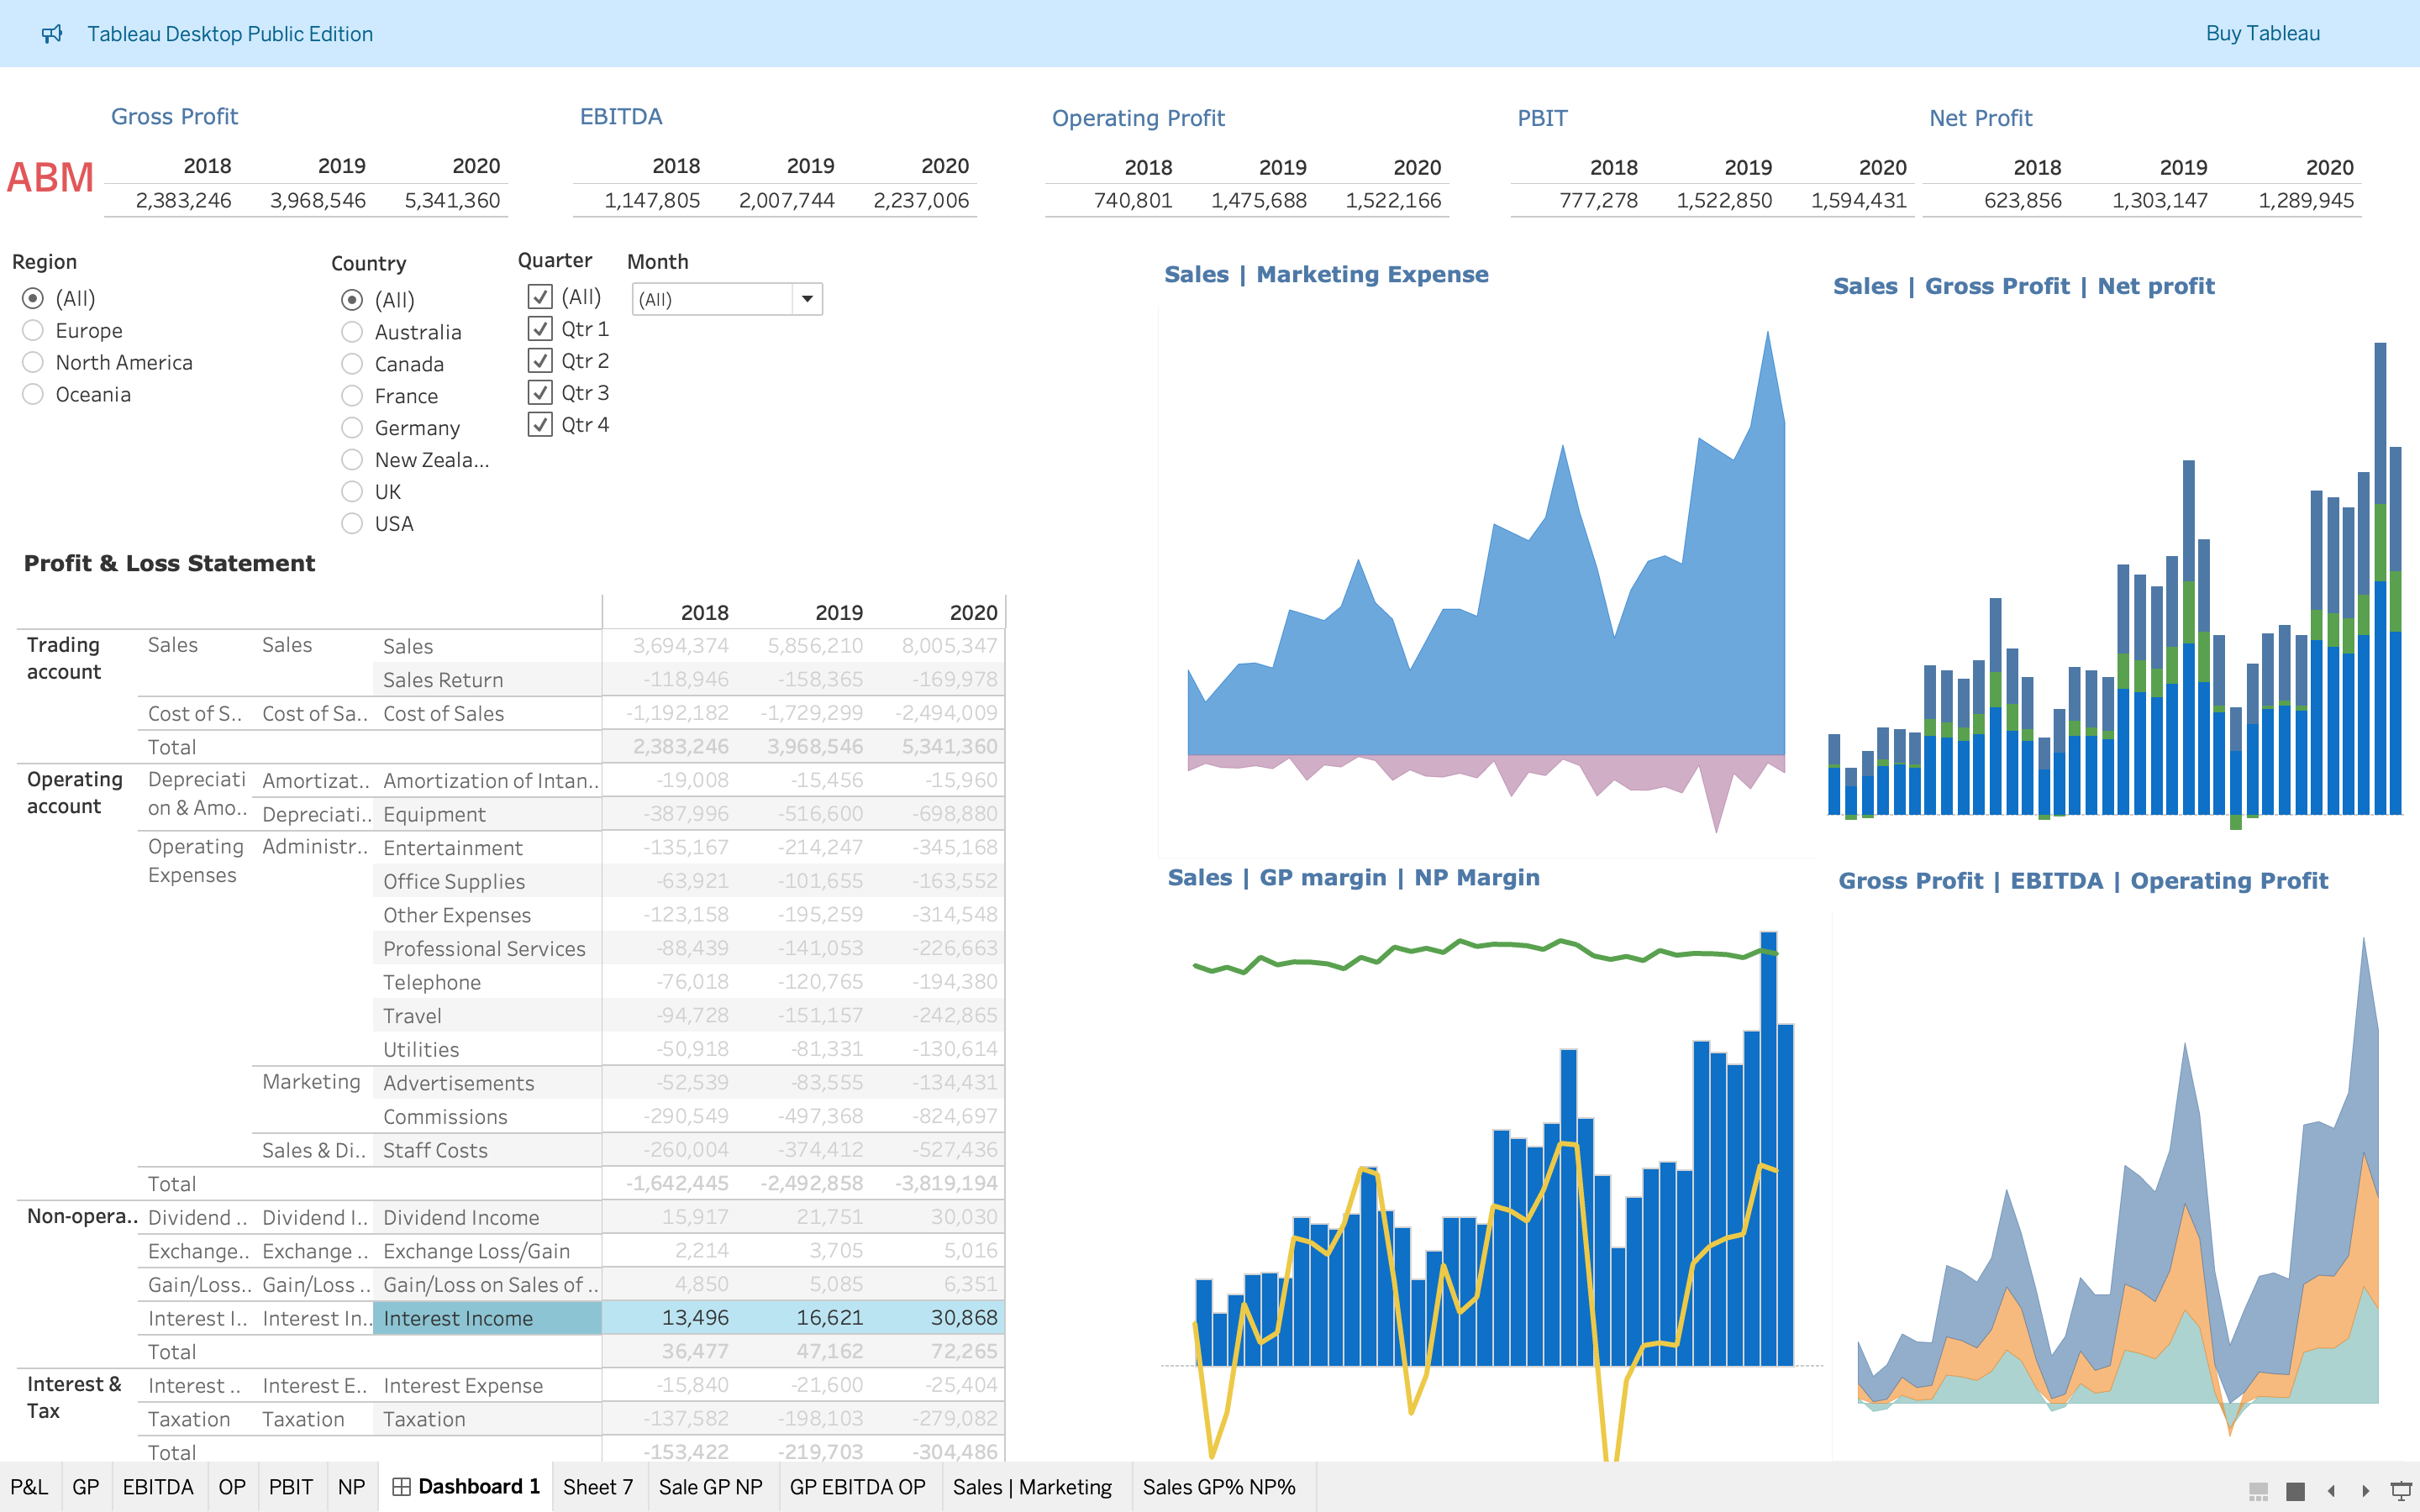

Layout of this report page (visuals, bound fields, positions):
{"tool":"tableau","page":{"name":"Dashboard 1","canvas":[1000,1000],"units":"permille","ordinal":0},"visuals":[{"type":"worksheet","title":"GP","mark":"Automatic","cols":["Date (Calendar)"],"box":[43.1,20.8,198.5,115.9]},{"type":"worksheet","title":"EBITDA","mark":"Automatic","cols":["Date (Calendar)"],"box":[236.8,20.8,198.5,115.9]},{"type":"worksheet","title":"OP","mark":"Automatic","cols":["Date (Calendar)"],"box":[432.1,22.1,201,115.9]},{"type":"worksheet","title":"PBIT","mark":"Automatic","cols":["Date (Calendar)"],"box":[624.1,22.1,197.7,115.9]},{"type":"worksheet","title":"NP","mark":"Automatic","cols":["Date (Calendar)"],"box":[794.2,22.1,200.1,115.9]},{"type":"filter","title":"P&L","param":"[federated.0kl0k160grfikp1cb8csf09pum6d].[none:Quarter:nk]","box":[213.6,127.6,55.2,166.7]},{"type":"filter","title":"P&L","param":"[federated.0kl0k160grfikp1cb8csf09pum6d].[none:Region:nk]","box":[5,128.9,108.9,169.3]},{"type":"filter","title":"P&L","param":"[federated.0kl0k160grfikp1cb8csf09pum6d].[none:Month:nk]","box":[258.8,128.9,83.5,84.6]},{"type":"filter","title":"P&L","param":"[federated.0kl0k160grfikp1cb8csf09pum6d].[none:Country:nk]","box":[136.5,130.2,72.1,224]},{"type":"worksheet","title":"Sales | Marketing","mark":"Area","cols":["Date (Calendar)"],"box":[478.8,134.1,271.6,433.6]},{"type":"worksheet","title":"Sale GP NP","mark":"Bar","cols":["Date (Calendar)","Date (Calendar)","Date (Calendar)"],"box":[754.6,141.9,239,423.2]},{"type":"worksheet","title":"GP EBITDA OP","mark":"Area","cols":["Date (Calendar)"],"box":[756.7,569,236.9,431]}]}

Visuals, with their boxes on the dashboard's canvas, which has no fixed pixel size, in thousandths of its width and height (x1, y1, x2, y2). These are canvas units, not pixel positions in the 2420x1512 screenshot, which may show the page scaled, cropped or inside an application window:
"GP" worksheet: Rect(43, 21, 242, 137)
"EBITDA" worksheet: Rect(237, 21, 435, 137)
"OP" worksheet: Rect(432, 22, 633, 138)
"PBIT" worksheet: Rect(624, 22, 822, 138)
"NP" worksheet: Rect(794, 22, 994, 138)
"P&L" filter: Rect(214, 128, 269, 294)
"P&L" filter: Rect(5, 129, 114, 298)
"P&L" filter: Rect(259, 129, 342, 214)
"P&L" filter: Rect(136, 130, 209, 354)
"Sales | Marketing" worksheet (Area marks): Rect(479, 134, 750, 568)
"Sale GP NP" worksheet (Bar marks): Rect(755, 142, 994, 565)
"GP EBITDA OP" worksheet (Area marks): Rect(757, 569, 994, 1000)
